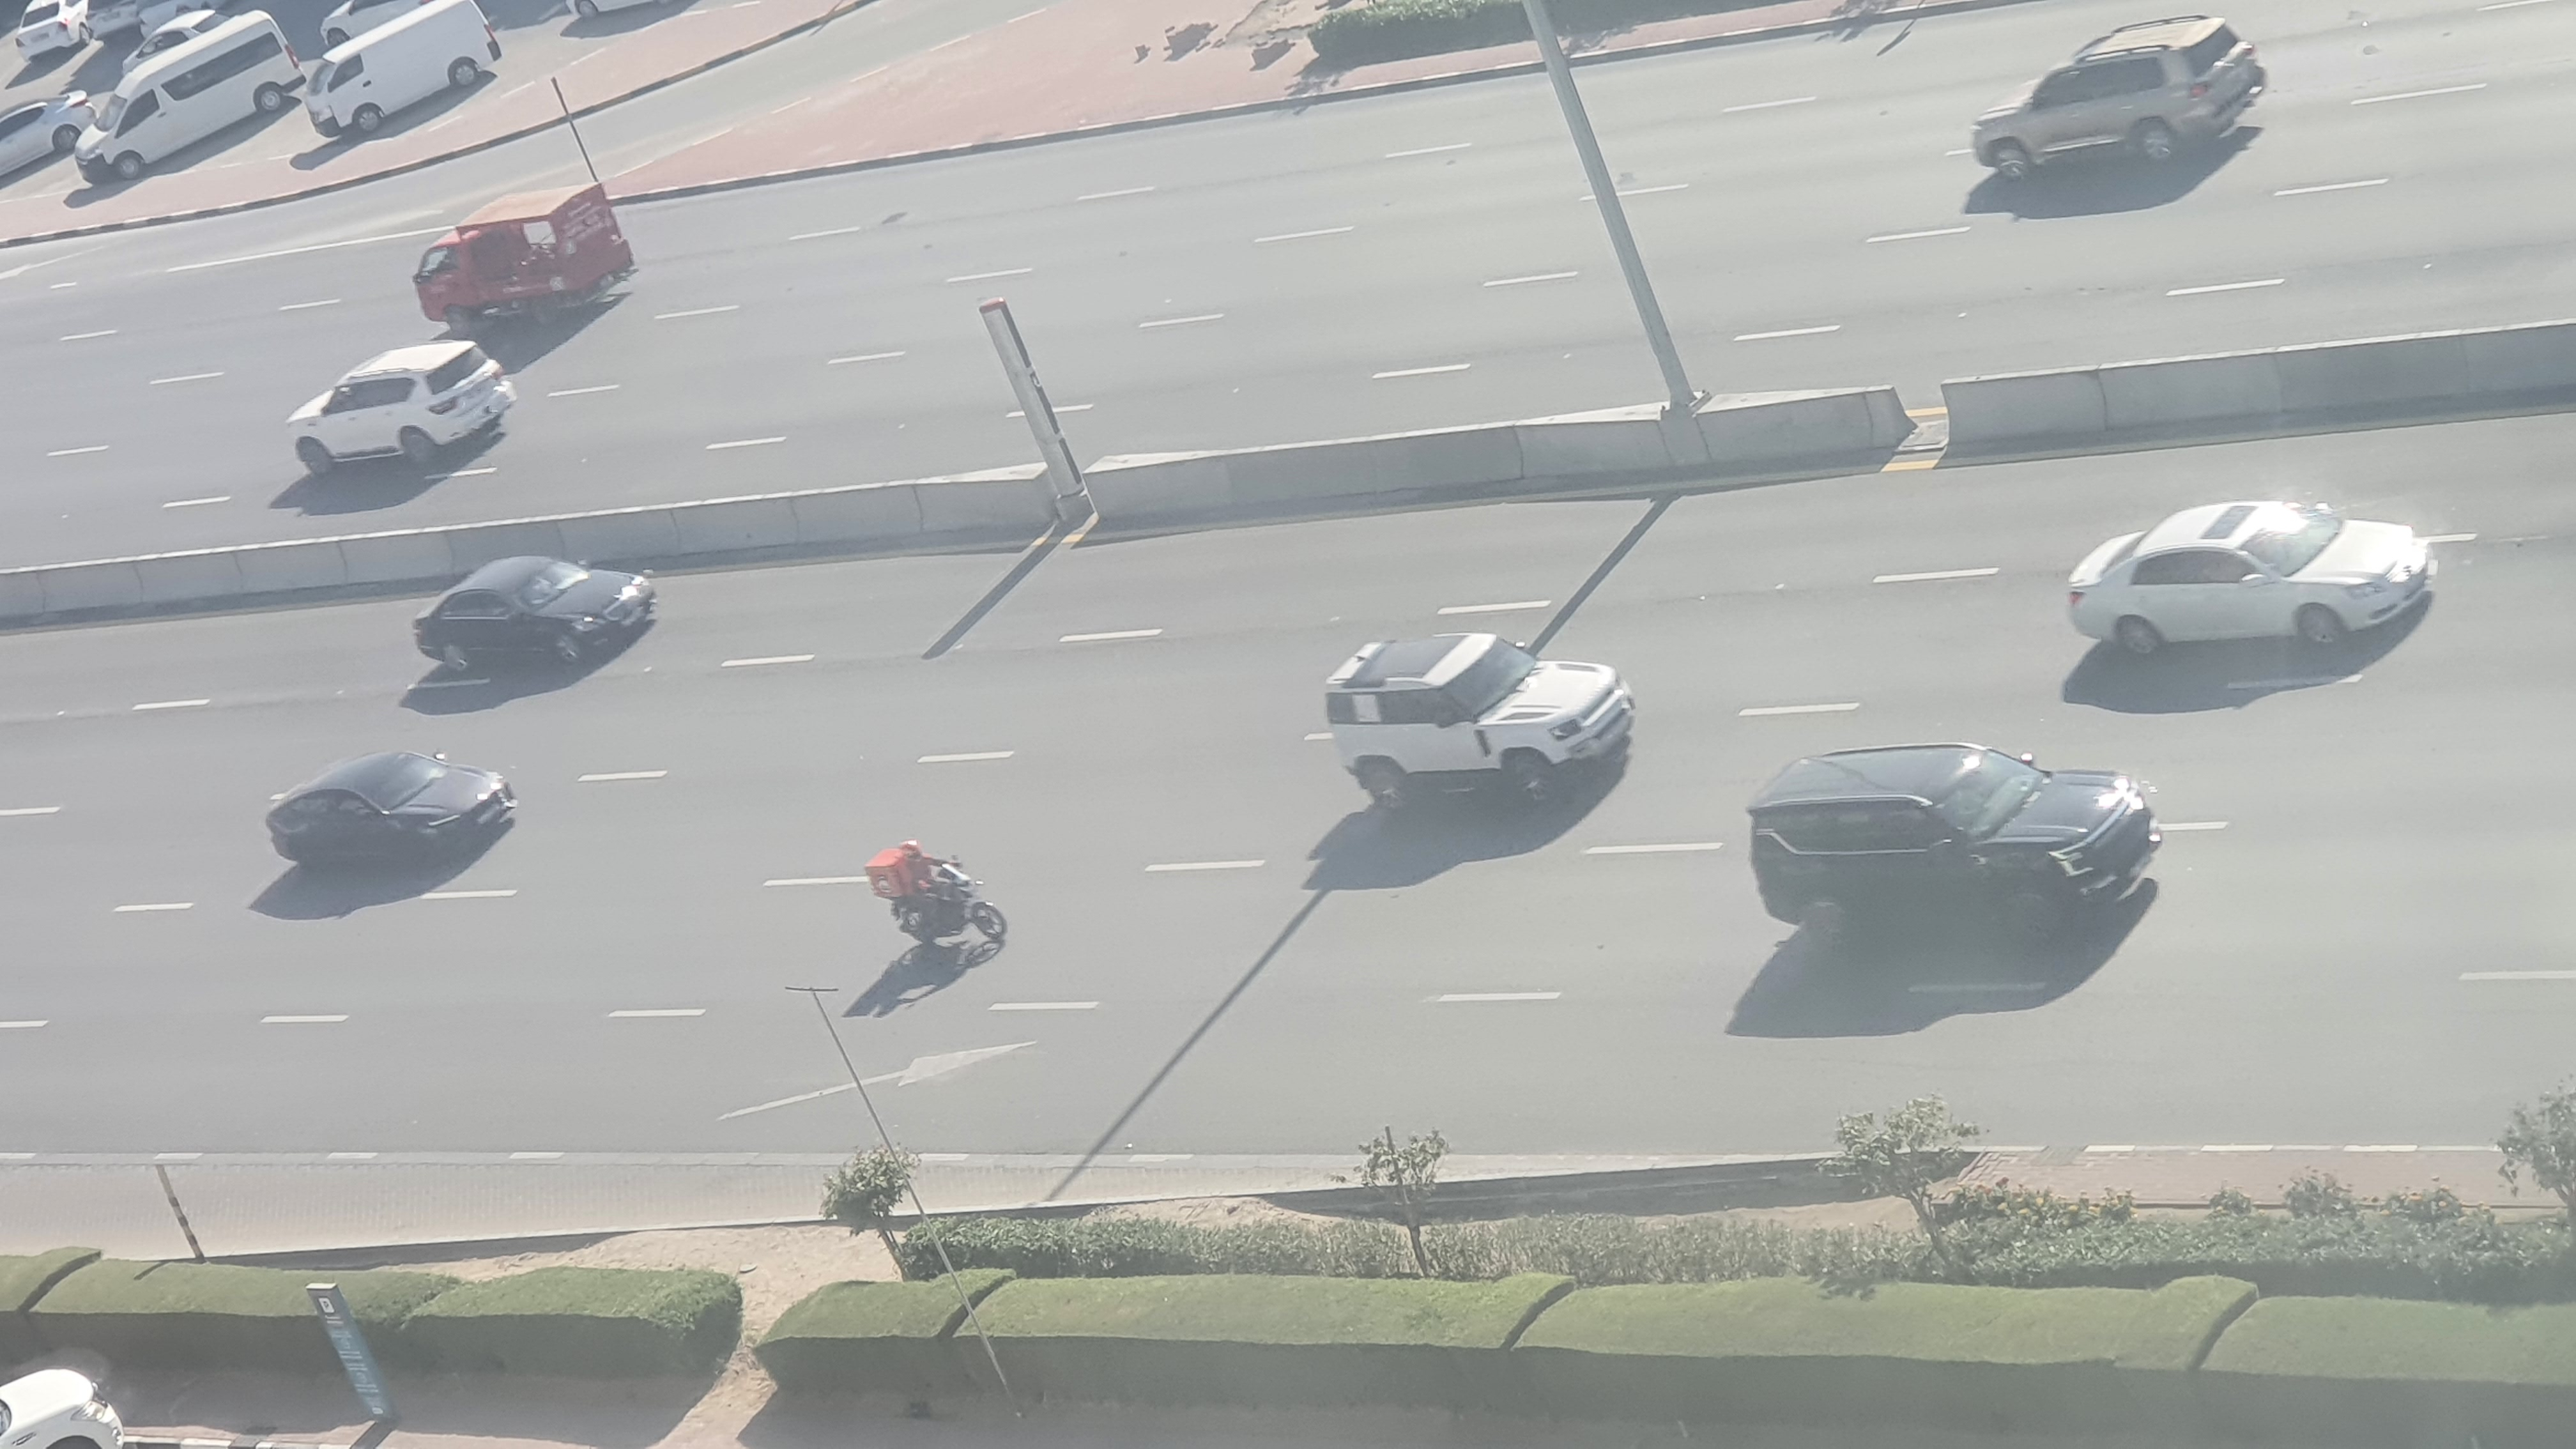NotSunroof: (1750, 748, 2164, 943), (409, 554, 656, 671)
Sunroof: (1318, 633, 1635, 810), (2070, 504, 2438, 656), (262, 747, 515, 867)
